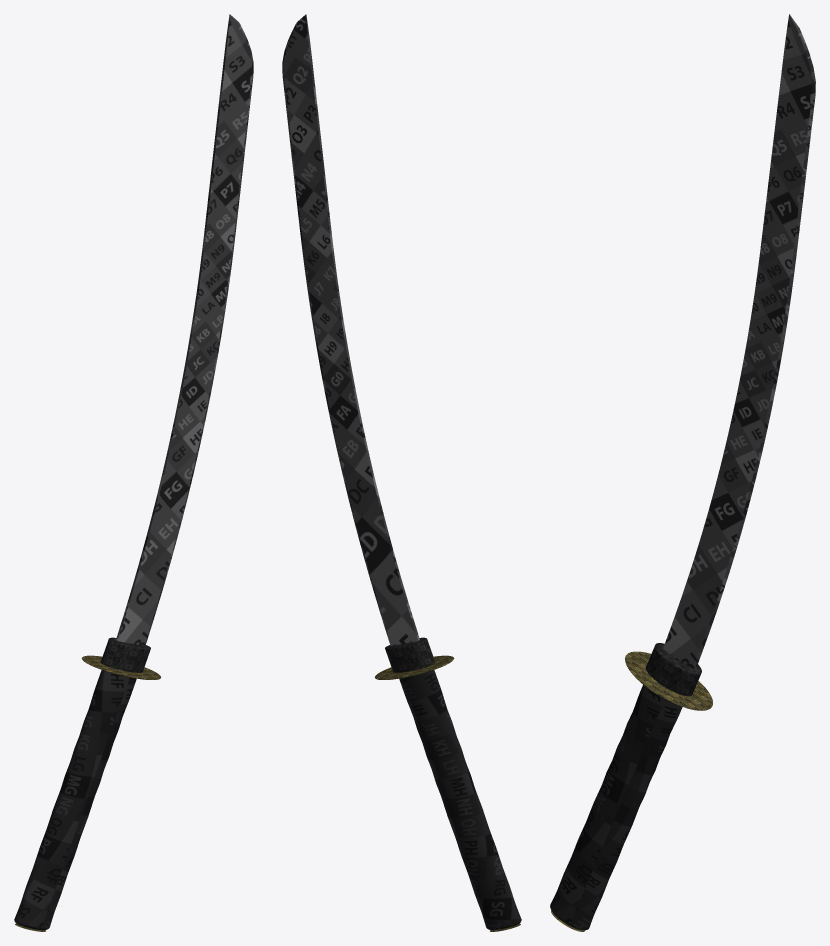
Rendered from Sword_Animation.fbx.
The picture shows the model from 3 angles, left to right: view 1: azimuth 30°, elevation 25°; view 2: azimuth 150°, elevation 25°; view 3: azimuth 330°, elevation 25°; orthographic projection. The views are drawn at different scales.
Visible parts, largest first — view 1: polySurface3; view 2: polySurface3; view 3: polySurface3.
Boxes of the visible parts, x1,y1,x2,y2 form: polySurface3: [14, 14, 253, 931]; polySurface3: [282, 14, 521, 931]; polySurface3: [550, 14, 815, 931].
Bounding box in the file's own units: 8.25 × 28.78 × 1.64.
3 materials, 3 textured.
